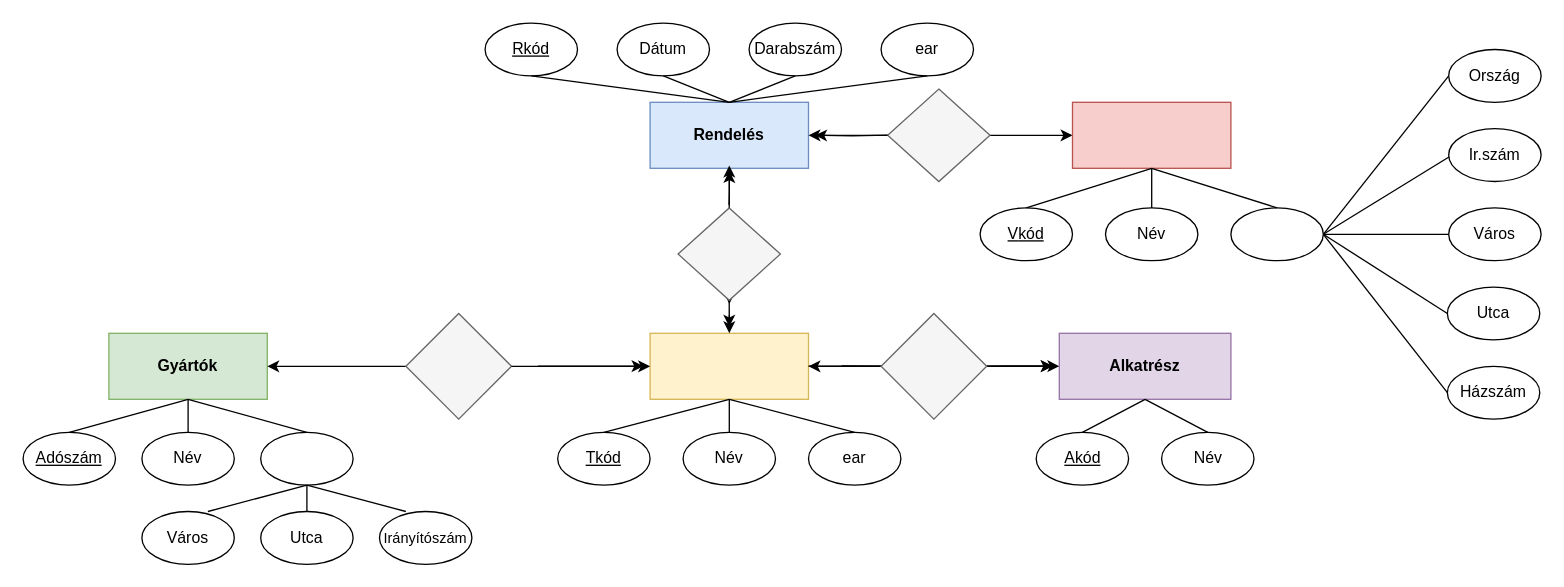
The diagram is 1564 pixels wide and 587 high, and some of its shapes have lost their labels. Here are the shapes that lost their labels. From the top down, the box of each, then its label:
(886, 88, 990, 182): R-V
(1071, 101, 1231, 168): Vevő
(677, 207, 780, 300): R-T
(1230, 207, 1323, 261): Lakcím
(405, 312, 512, 419): GY-T
(649, 332, 808, 399): Termékek
(880, 312, 987, 419): T-A
(259, 431, 353, 485): Telephely
